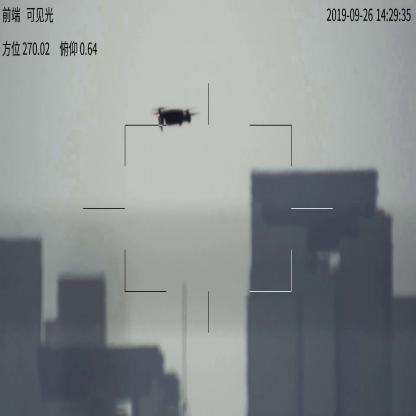uav: (151, 106, 203, 130)
